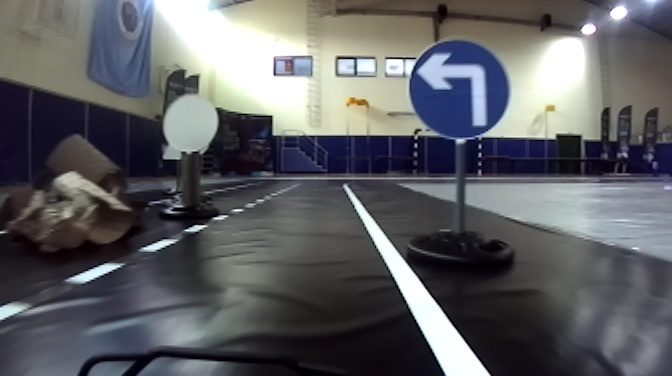sola_donus: (406, 37, 510, 138)
